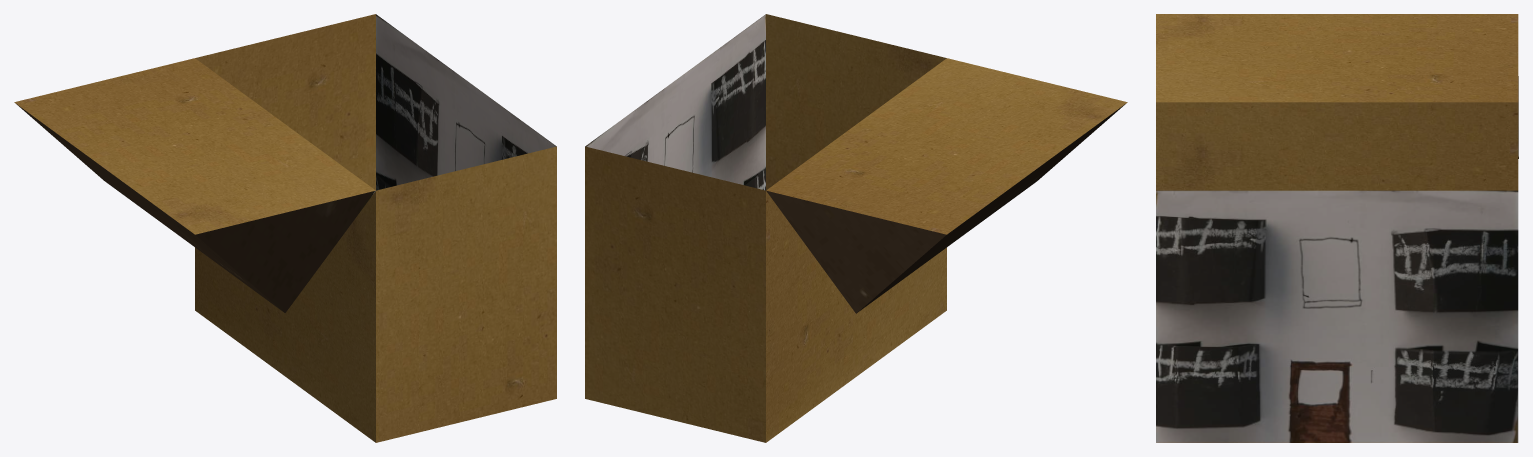
3 views of the same model, side by side, from view 1: azimuth 30°, elevation 25°; view 2: azimuth 150°, elevation 25°; view 3: azimuth 270°, elevation 25° (orthographic).
Parts seen in each view (by area): view 1: Cube, Cube.002, Cube.003, Cube.001; view 2: Cube, Cube.002, Cube.003, Cube.001; view 3: Cube, Cube.002, Cube.003.
Boxes of the visible parts, x1,y1,x2,y2 form: Cube: (195,146,556,442); Cube.002: (14,58,375,312); Cube.003: (195,14,556,190); Cube.001: (16,104,284,312); Cube: (585,146,946,442); Cube.002: (766,58,1127,313); Cube.003: (585,14,946,190); Cube.001: (857,104,1125,312); Cube: (1156,190,1518,442); Cube.002: (1156,14,1518,157); Cube.003: (1156,102,1518,190).
Bounding box in the file's own units: 15 × 10 × 13.02.
Materials: 1 (1 with a texture image).
